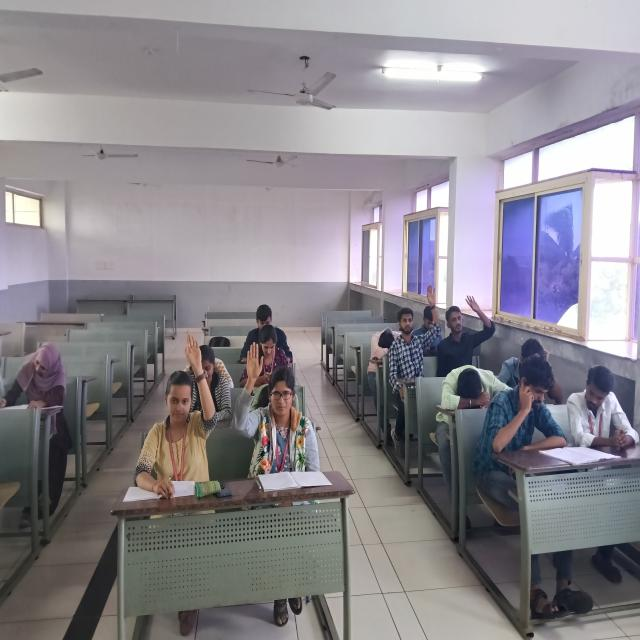Hand Rising: (232, 329, 316, 489), (144, 319, 222, 484), (393, 280, 439, 377), (440, 282, 493, 366)
Reading: (474, 354, 573, 463), (556, 351, 640, 463)
Sleeping: (434, 355, 513, 430), (367, 316, 408, 392)
Using Phone: (237, 324, 305, 389)
Writing: (0, 335, 83, 451)
